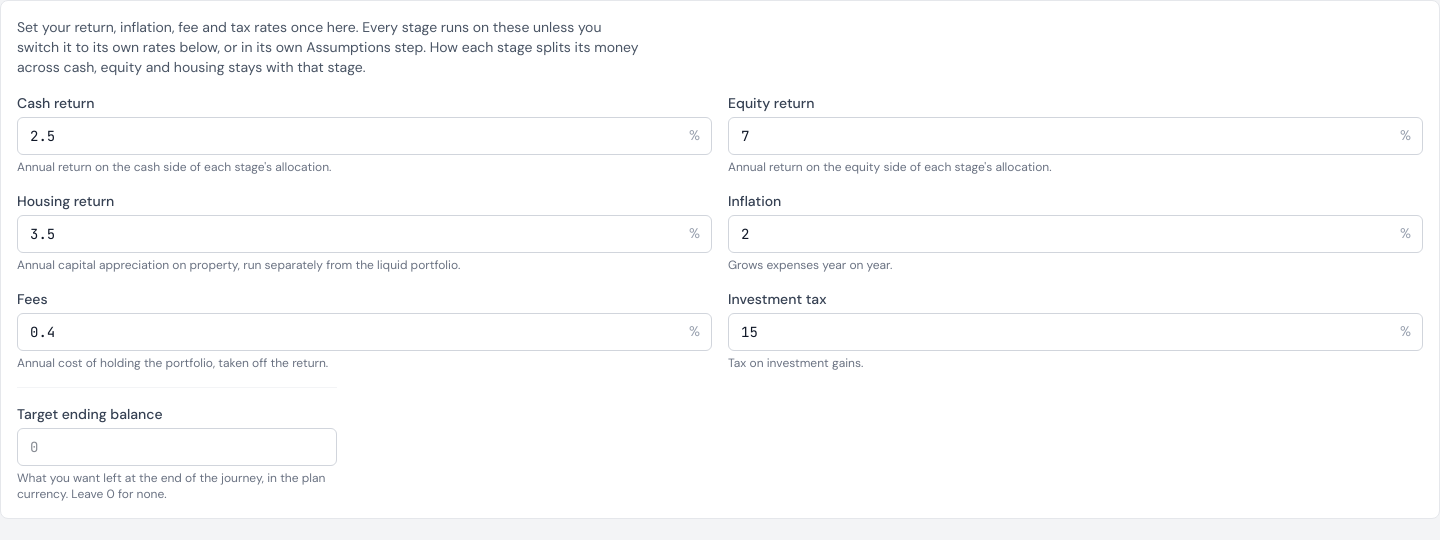
Scenario: JourneyAssumptionsSection › refuses a rate the backend would reject, and saves nothing
Replace the text in the number field labelled "Inflation" with "100" at (1076, 234), box [728,215,1423,253]
Wait 1000 ms
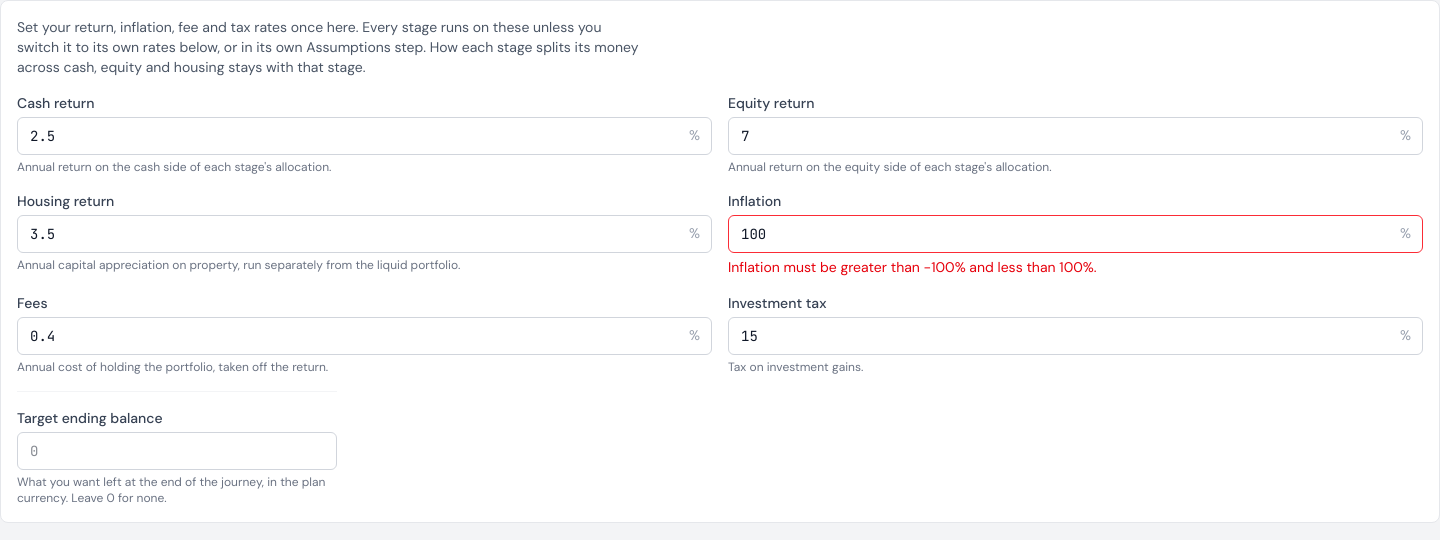
Check: the text "Inflation must be greater than -100% and less than 100%." is shown, box [728,258,1097,276]
